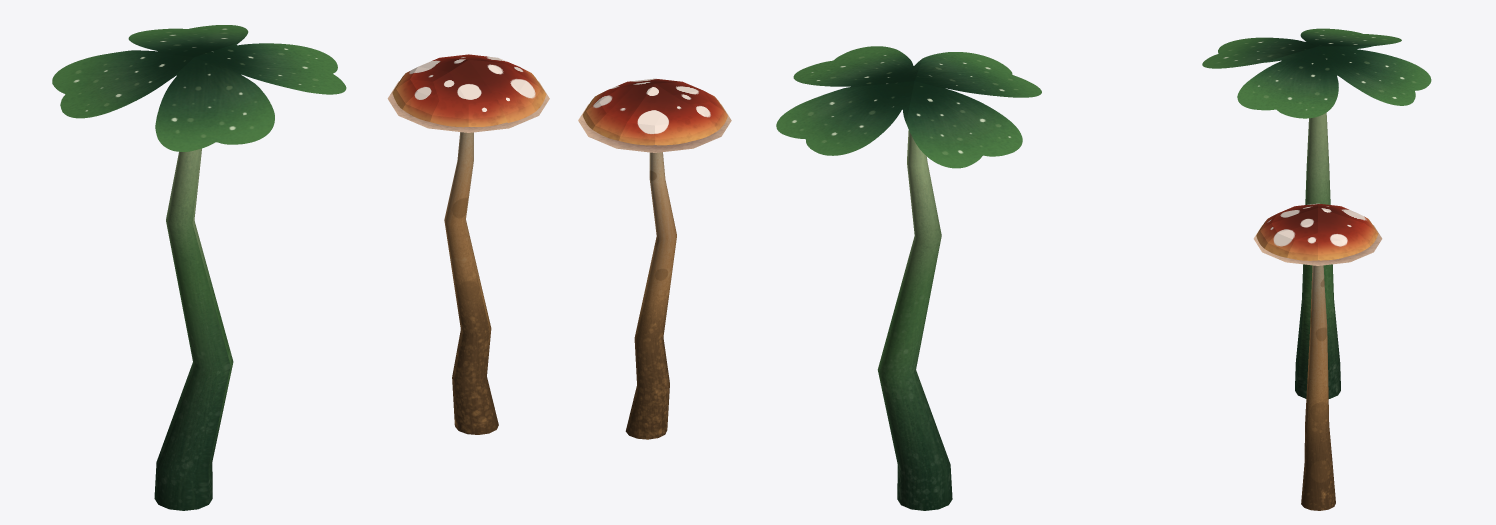
Rendered from mushrooms_trebols.fbx.
3 renders of one model, left to right at view 1: azimuth 30°, elevation 25°; view 2: azimuth 150°, elevation 25°; view 3: azimuth 270°, elevation 25°, orthographic. The views are drawn at different scales.
Visible parts, largest first — view 1: trebol, mushroom; view 2: trebol, mushroom; view 3: trebol, mushroom.
Boxes of the visible parts, x1=… form: trebol: x1=52, y1=25, x2=346, y2=510; mushroom: x1=387, y1=54, x2=549, y2=434; trebol: x1=776, y1=46, x2=1041, y2=510; mushroom: x1=578, y1=78, x2=731, y2=439; trebol: x1=1202, y1=28, x2=1431, y2=398; mushroom: x1=1253, y1=203, x2=1382, y2=510.
Bounding box in the file's own units: 10.01 × 8.03 × 6.84.
